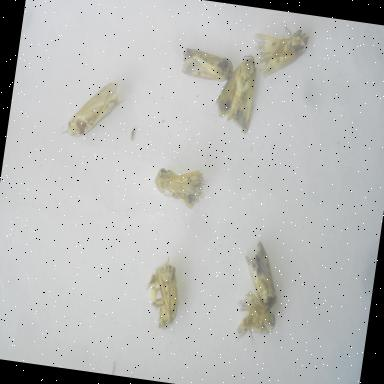abw: (209, 46, 269, 138), (58, 70, 130, 146), (246, 14, 316, 90), (138, 251, 186, 335), (233, 236, 286, 312), (225, 282, 284, 350), (148, 156, 212, 214), (174, 41, 238, 88)
